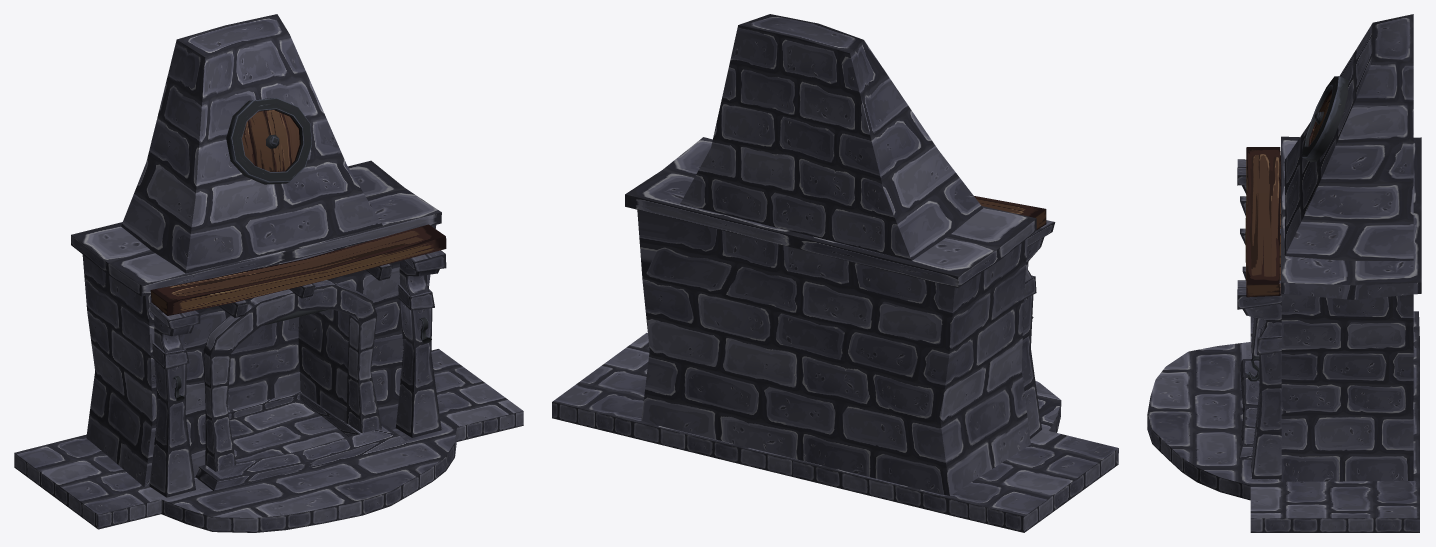
File: SM_PROP_fireplace_dungeon.fbx
3 views of the same model, side by side, from view 1: azimuth 30°, elevation 25°; view 2: azimuth 150°, elevation 25°; view 3: azimuth 270°, elevation 25° (orthographic). The views are drawn at different scales.
Parts seen in each view (by area): view 1: SM_PROP_fireplace_dungeon; view 2: SM_PROP_fireplace_dungeon; view 3: SM_PROP_fireplace_dungeon.
Part boxes in pixels (x1,y1,x2,y2): SM_PROP_fireplace_dungeon: [14, 14, 523, 532]; SM_PROP_fireplace_dungeon: [552, 14, 1118, 532]; SM_PROP_fireplace_dungeon: [1147, 14, 1421, 532].
Size of the model in its own units: 444 by 392 by 249.
